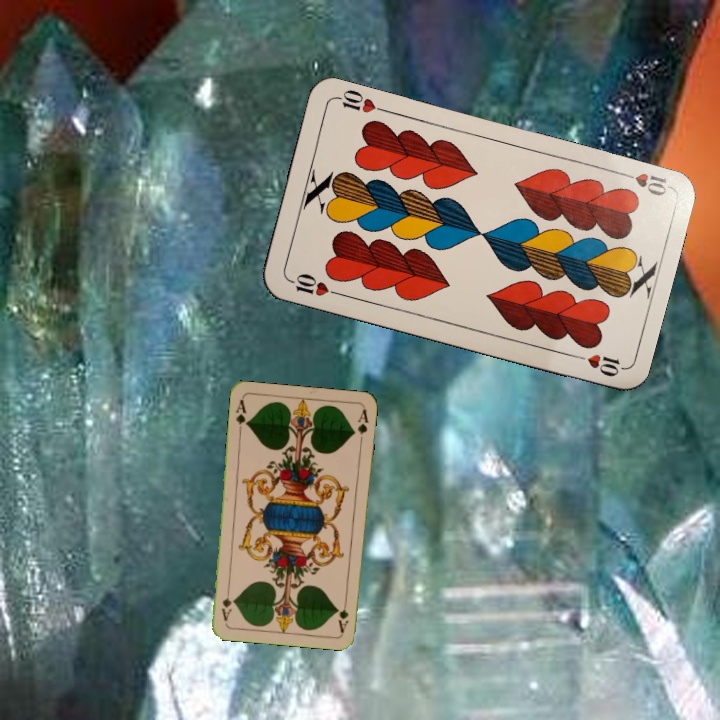GA: (231, 395, 250, 436), (334, 594, 351, 634)
H10: (614, 167, 670, 199), (285, 269, 343, 299)
